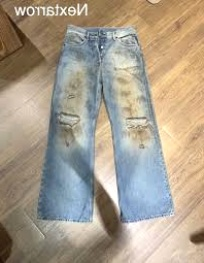earth: (117, 75, 140, 117), (69, 77, 81, 109), (127, 128, 150, 142), (62, 125, 80, 138)
